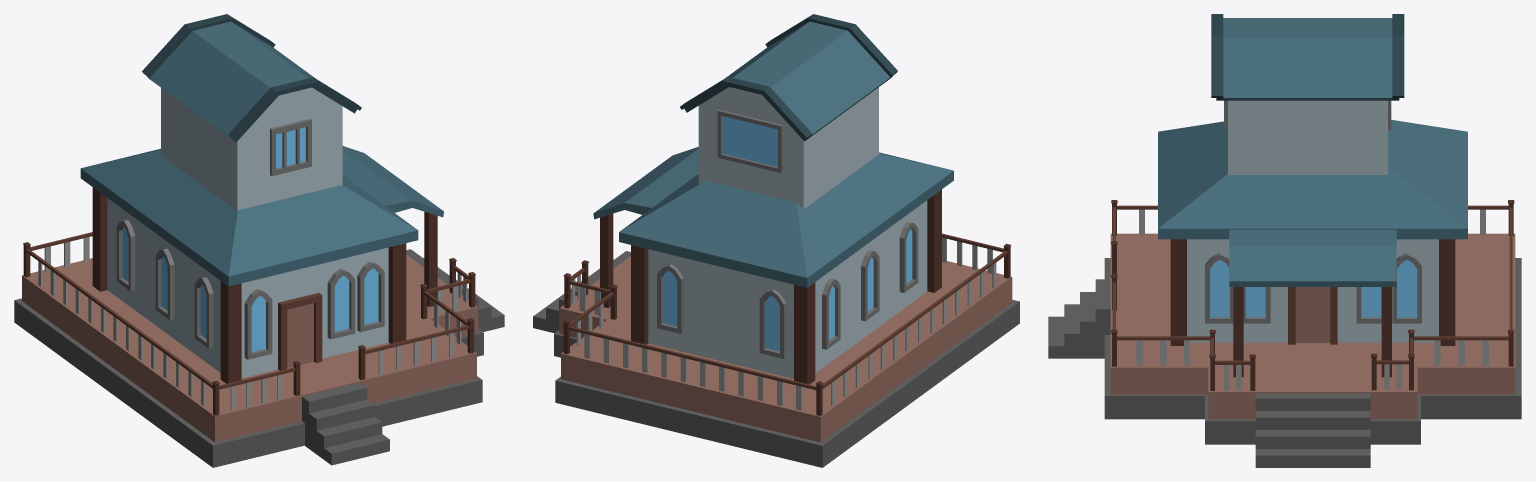
The model's file is CASA02.fbx.
3 views of the same model, side by side, from view 1: azimuth 30°, elevation 25°; view 2: azimuth 150°, elevation 25°; view 3: azimuth 270°, elevation 25° (orthographic). The views are drawn at different scales.
Visible parts, largest first — view 1: CASA02; view 2: CASA02; view 3: CASA02.
Part boxes in pixels (<box>): CASA02: <box>14,14,504,467</box>; CASA02: <box>533,14,1019,467</box>; CASA02: <box>1048,14,1521,467</box>.
Bounding box in the file's own units: 1565 × 1280 × 1681.
Materials: 1 (1 with a texture image).
